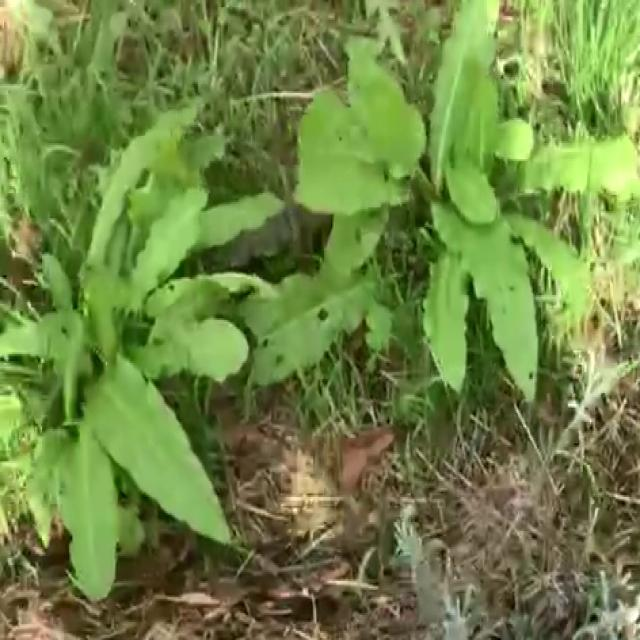organic waste: (285, 0, 628, 395), (0, 110, 260, 593)
